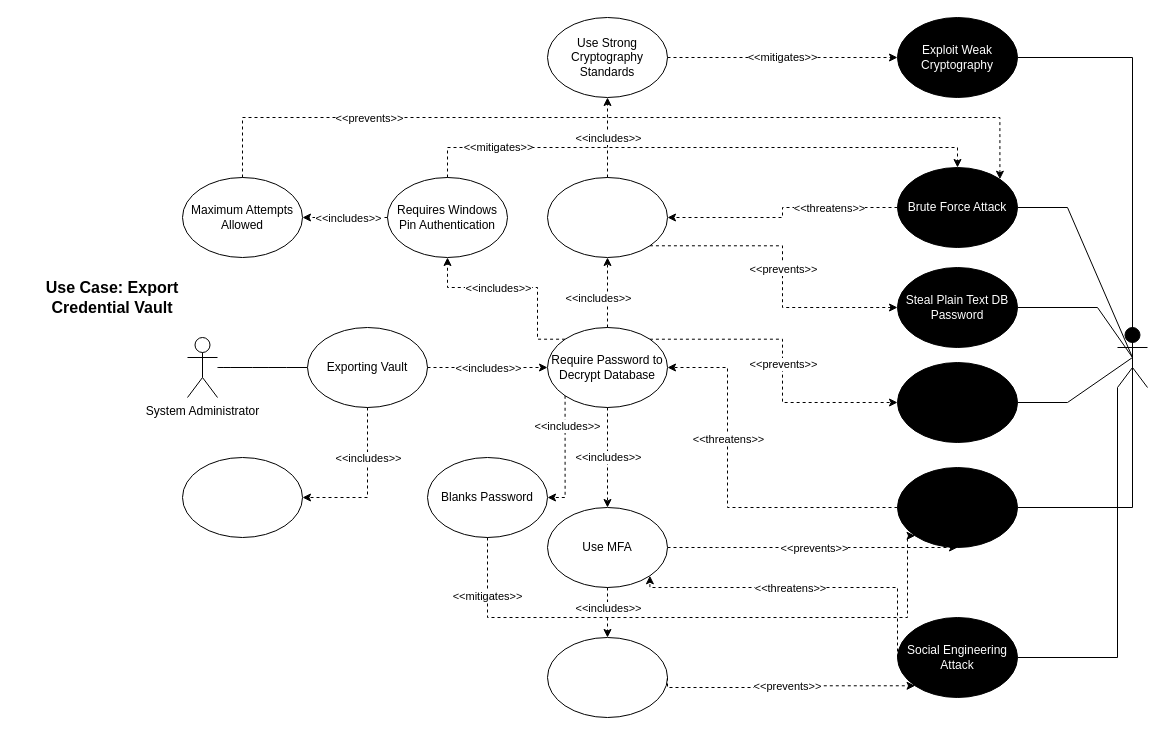
The diagram is 1175 pixels wide and 735 high, and some of its shapes have lost their labels. The shapes that lost their labels are listed below. From the top down, each one's centre as x and y in pixels, then its label:
At point 607,217: "Use Credential Hashing".
At point 1132,357: "Bad Actor".
At point 957,402: "Unauthenticated Database Export".
At point 242,497: "Encrypt Vault".
At point 957,507: "Shoulder Surfing".
At point 607,677: "Use Physical Token".
